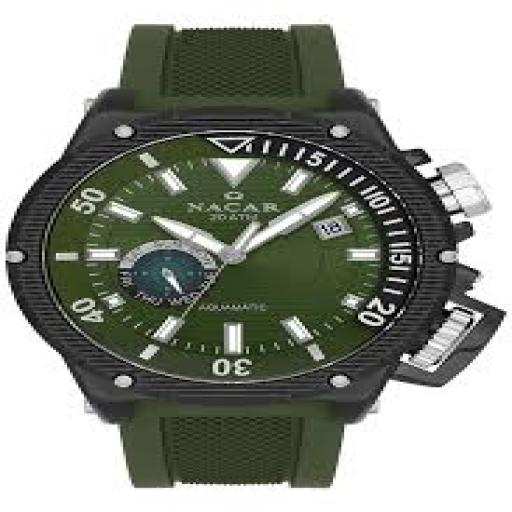KolSaati: (3, 12, 508, 489)
